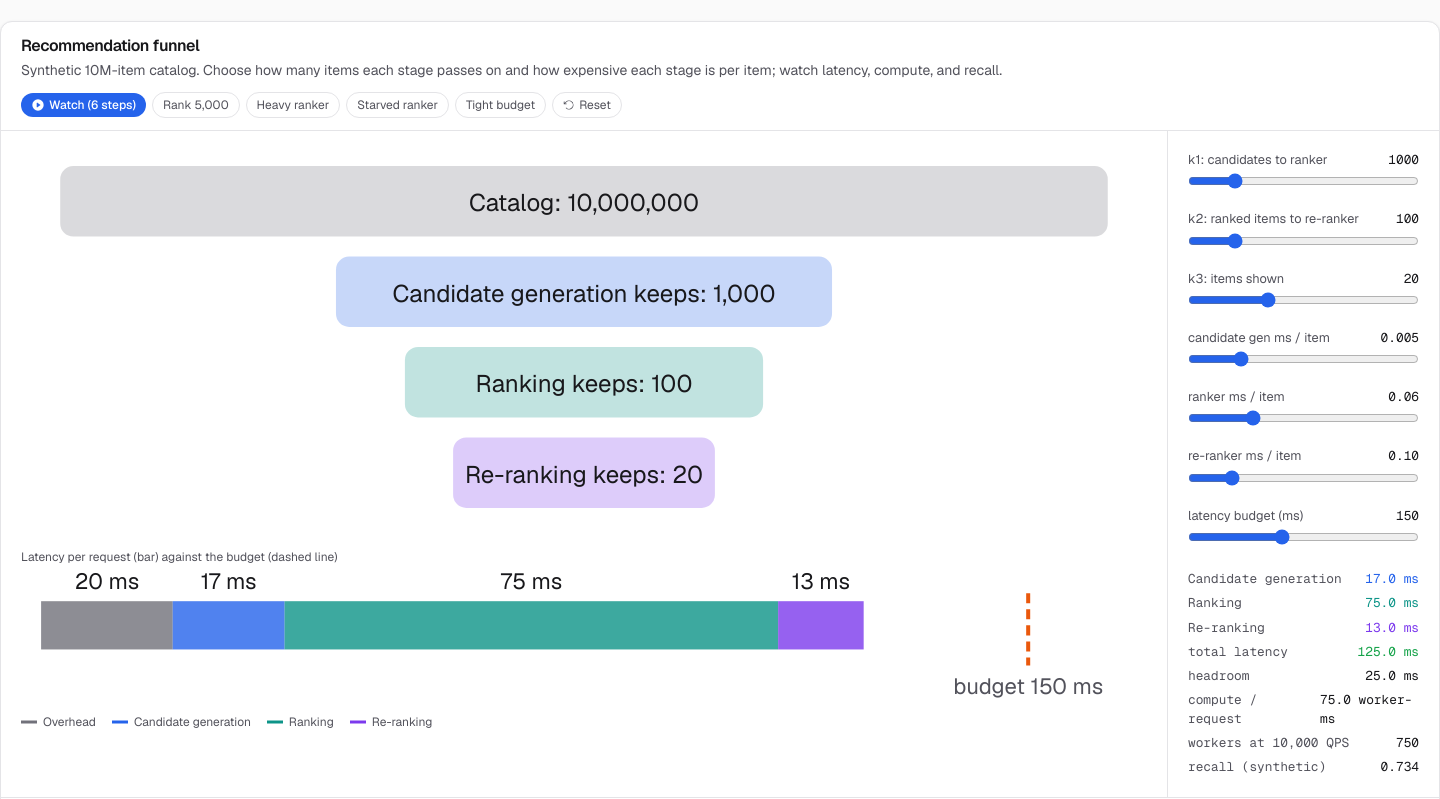
Test: recsys funnel lab › renders with buttons and reacts to a preset
Expected: the button "Watch (6 steps)" is shown, [21, 93, 146, 117]
Click the button "Rank 5,000".
click(196, 105)  # box [152, 92, 240, 118]
(page scrolled)
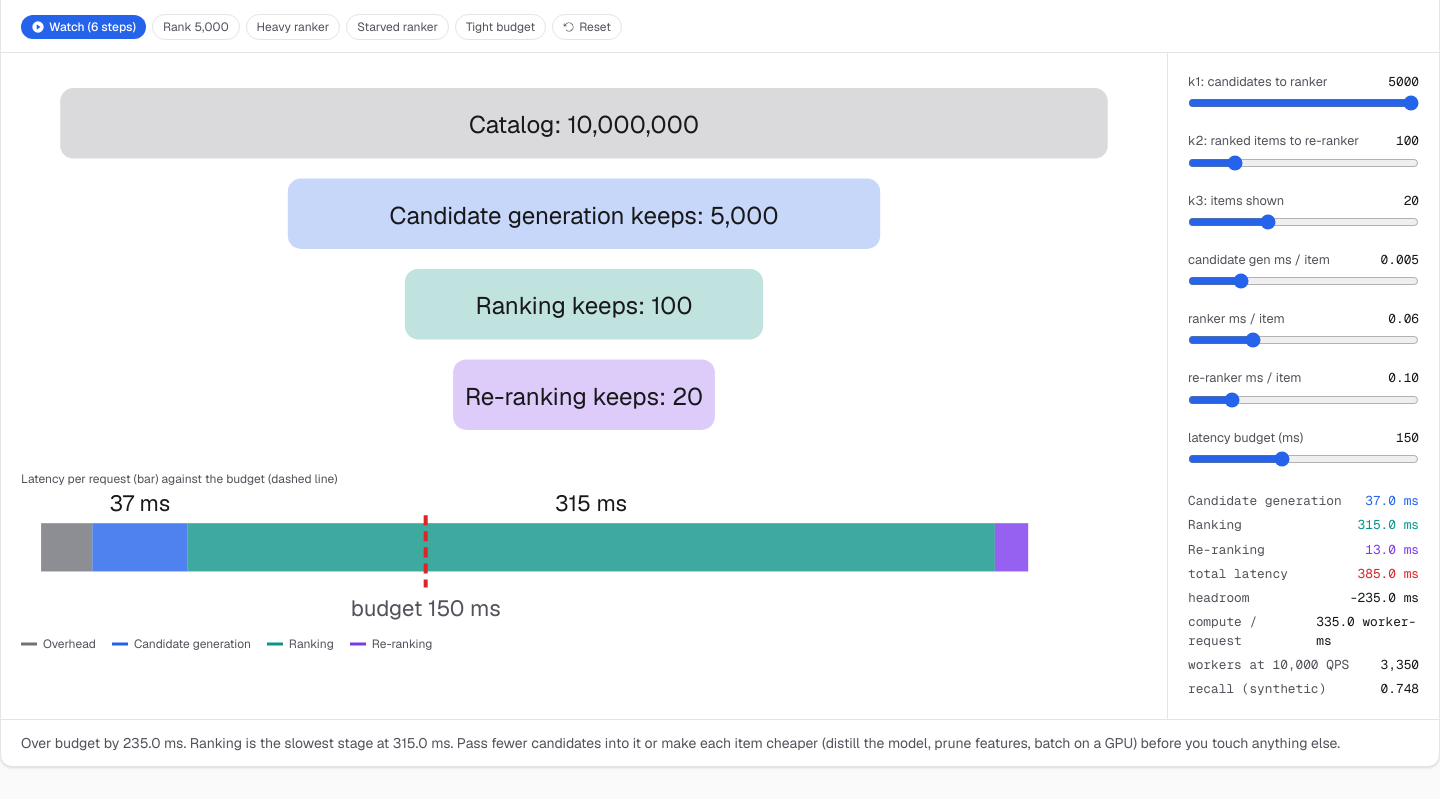
Result: the text "Over budget" is shown at [21, 734, 1340, 752]
